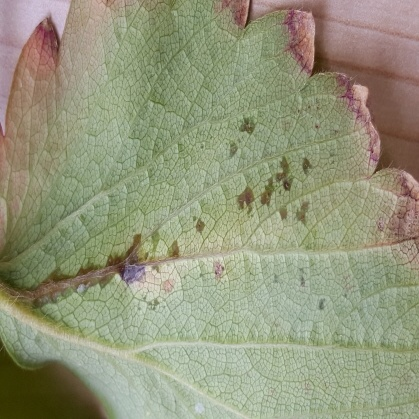Angular_LS: (0, 100, 418, 418)
